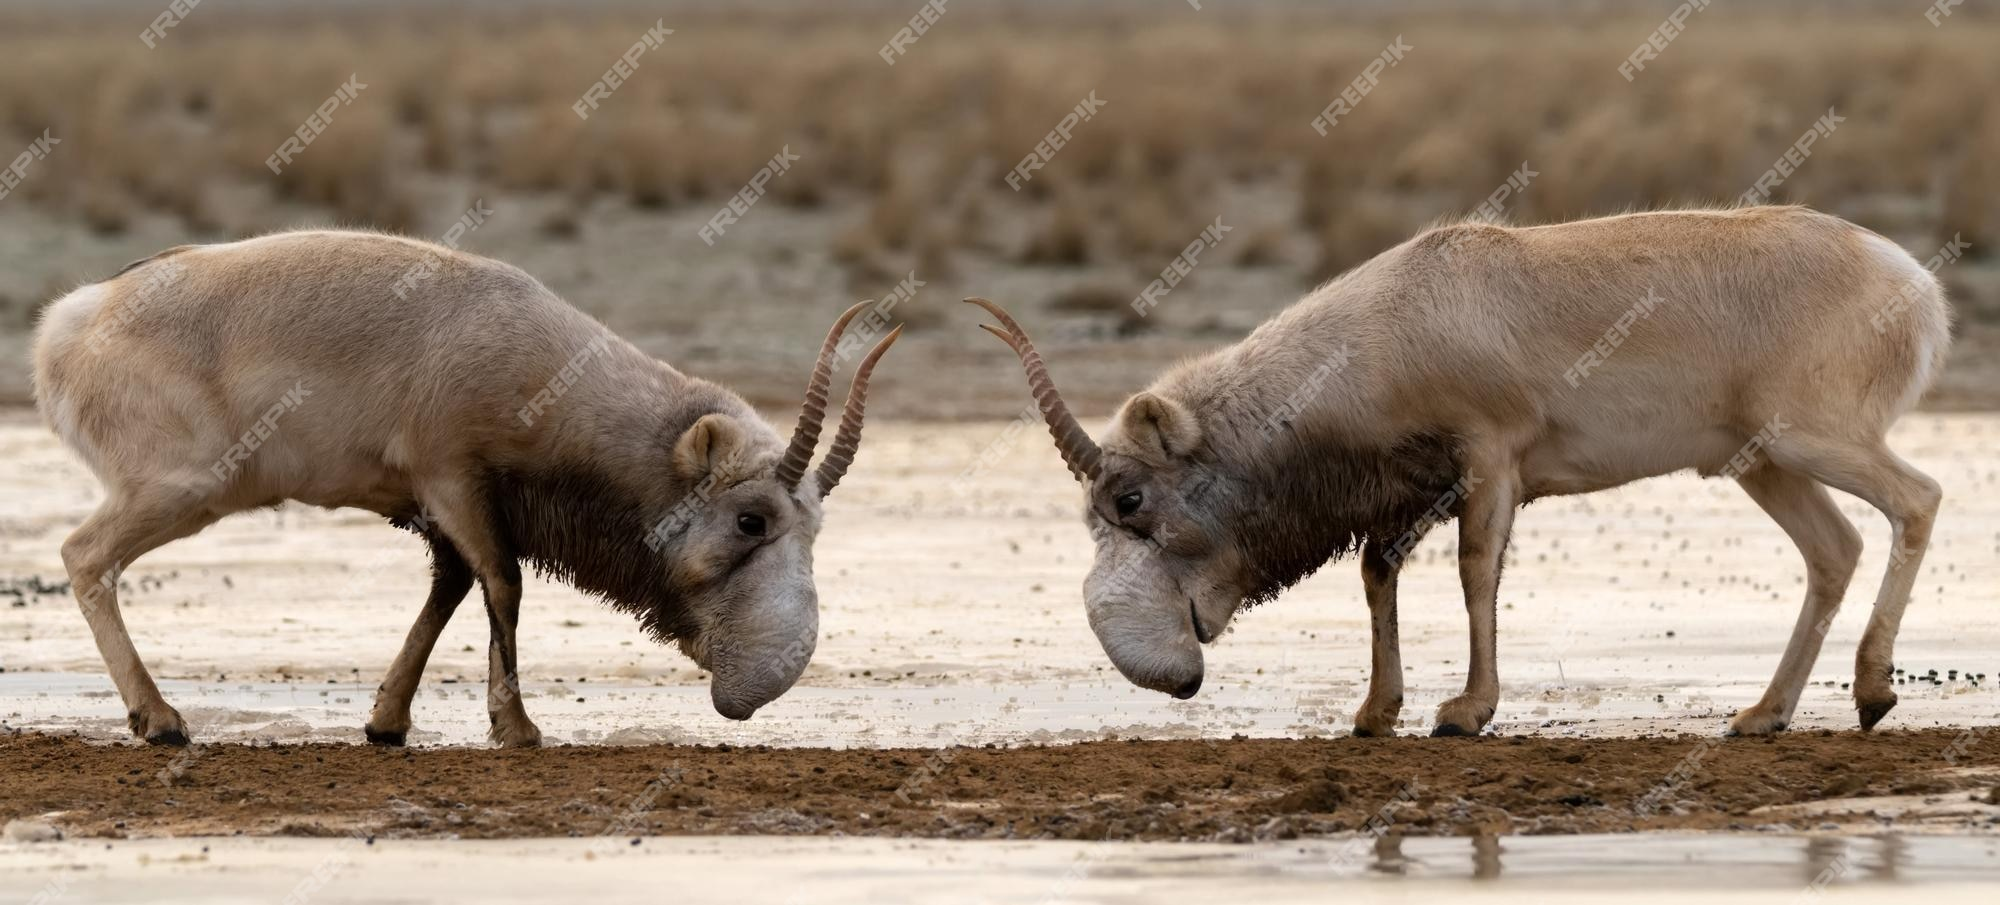saiga: (11, 229, 918, 823), (967, 204, 1926, 735)
